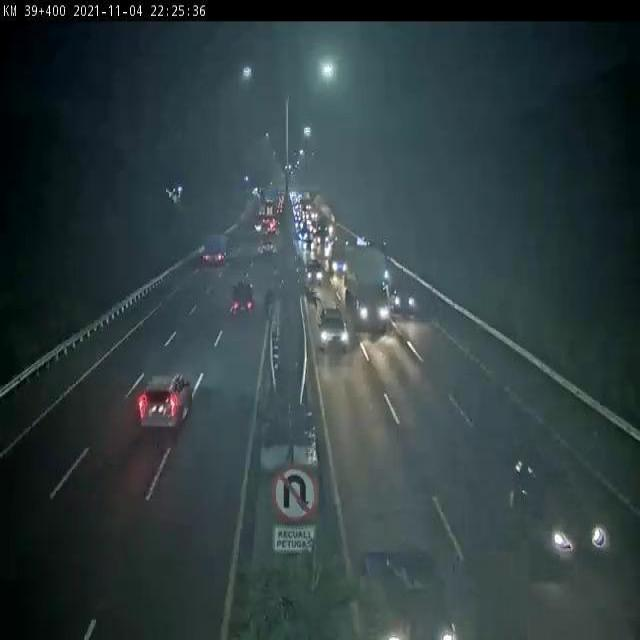car: (513, 452, 616, 569), (137, 376, 195, 429), (384, 265, 419, 316), (318, 307, 351, 353), (229, 281, 256, 319), (327, 239, 348, 277), (304, 260, 325, 285), (257, 241, 274, 260)
truck-s-: (202, 229, 229, 271)
truck-xl-: (347, 247, 393, 336)
